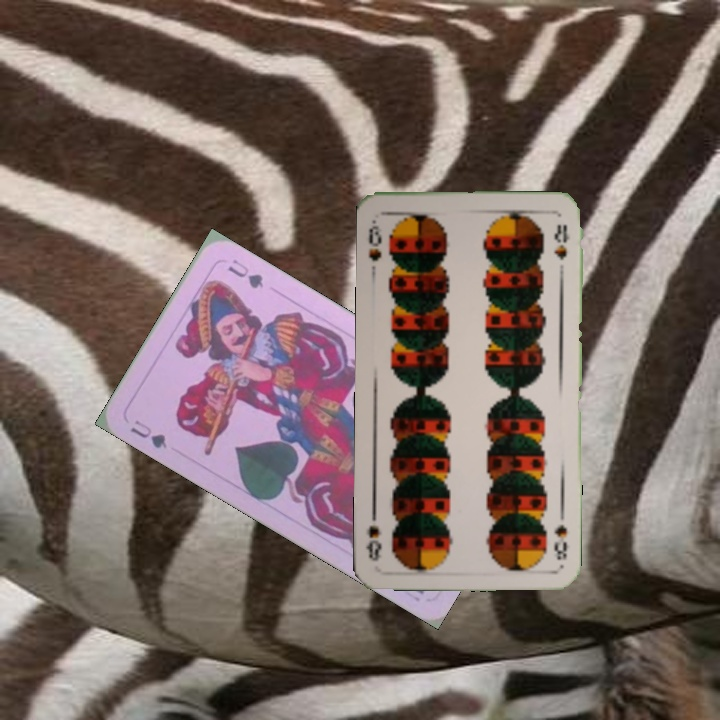GU: (126, 415, 170, 451)
S8: (365, 216, 384, 264), (550, 520, 570, 562)
